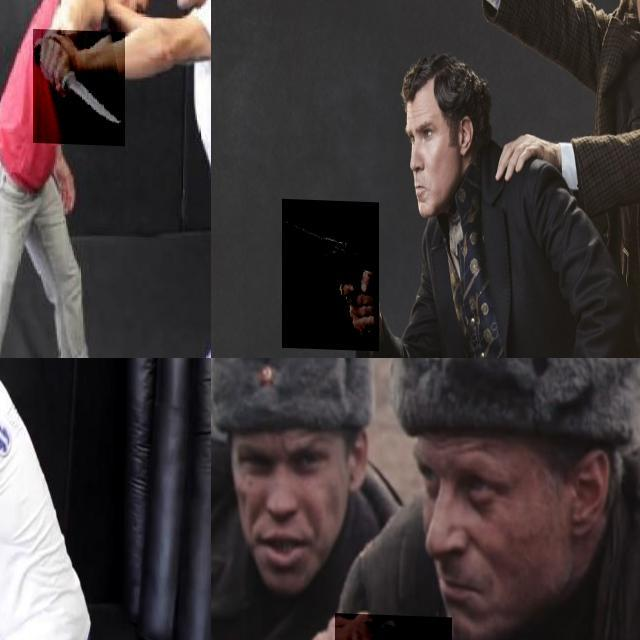-: (33, 27, 125, 144), (0, 592, 44, 640)
gun-knife-thesis - v11 Yolov5 augmented: (282, 198, 379, 350), (211, 527, 287, 640), (334, 610, 452, 640), (397, 0, 464, 36)
